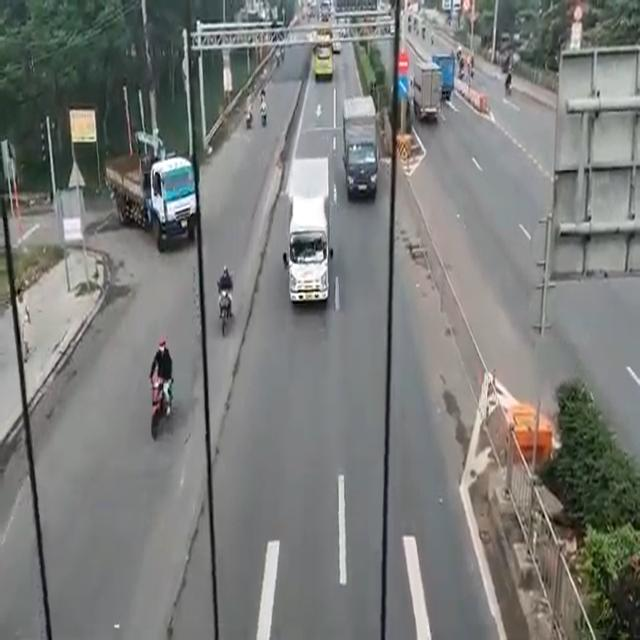motor: (147, 342, 175, 431), (216, 262, 234, 338)
truck: (106, 131, 196, 252), (285, 161, 339, 311), (345, 98, 377, 200), (316, 38, 333, 82)
